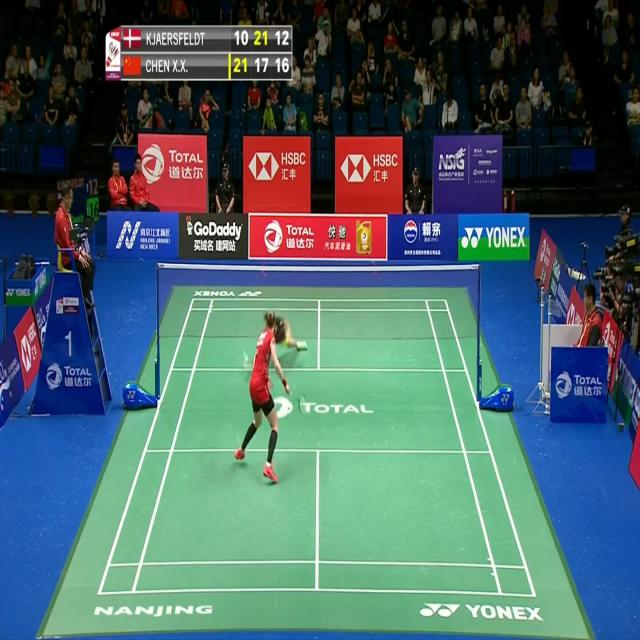Player1: (235, 311, 301, 495)
Player2: (250, 315, 311, 354)
